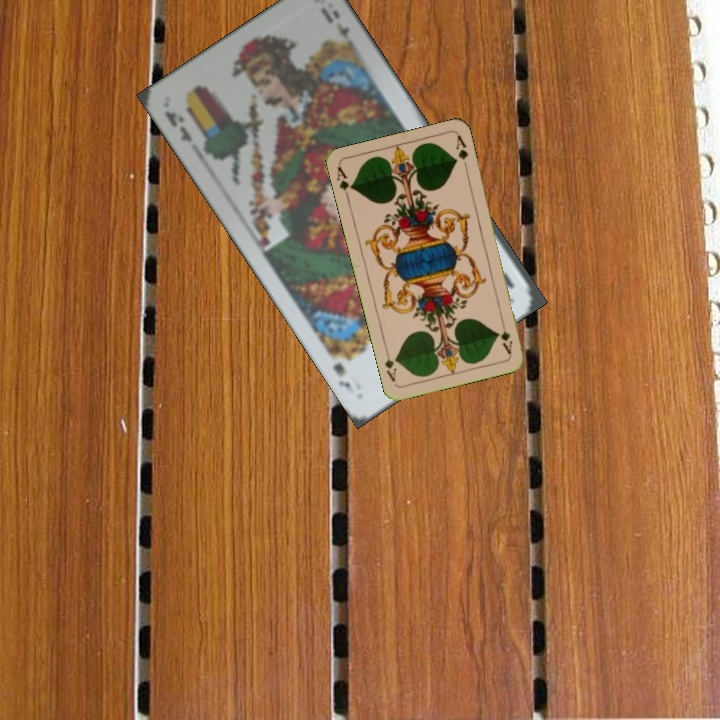EK: (160, 107, 195, 146)
GA: (333, 163, 356, 203), (497, 316, 515, 356)
